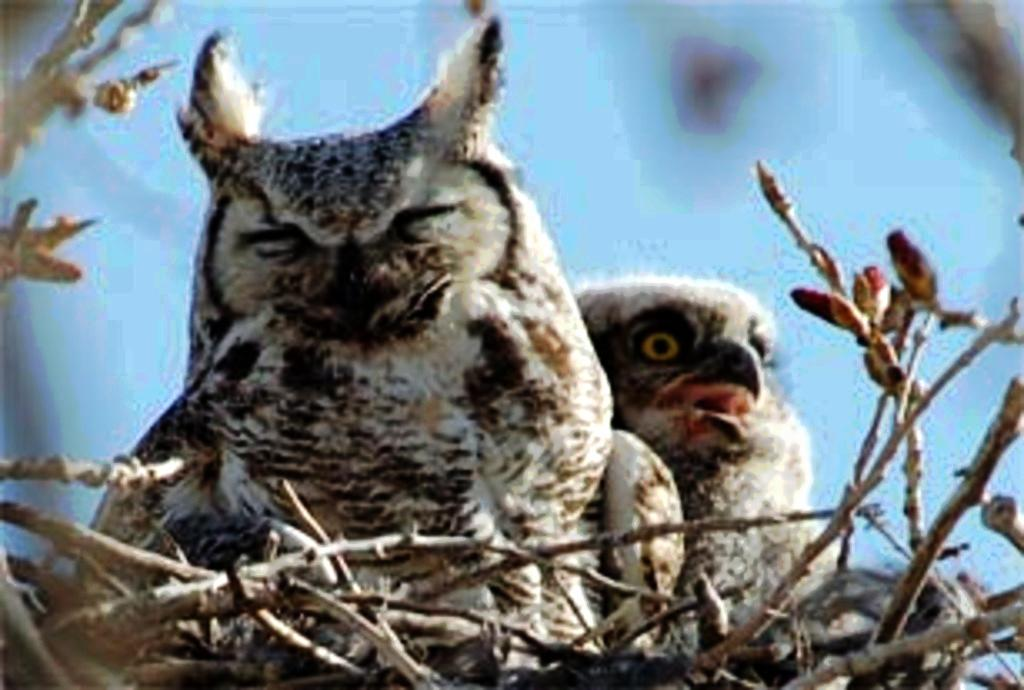Owl: (132, 13, 607, 618), (567, 270, 814, 617)
